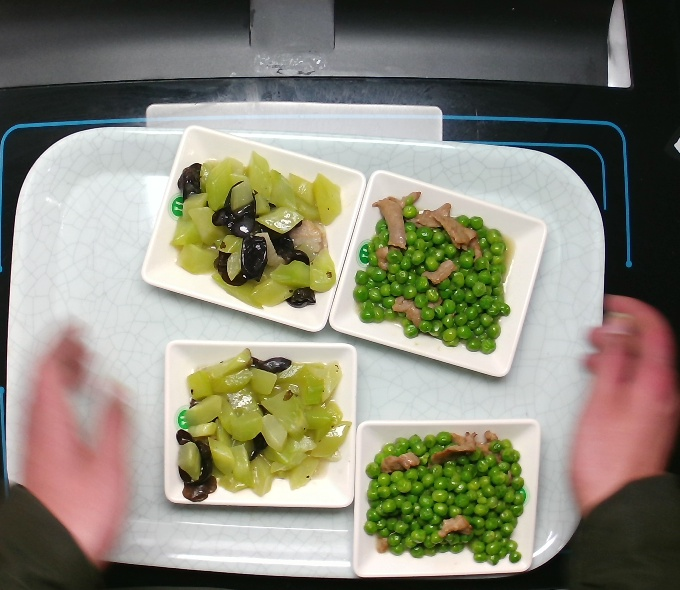wcq-CanDouRouSi: (348, 162, 523, 362), (360, 429, 540, 579)
wcq-WoSunKuai: (178, 345, 352, 520), (157, 146, 336, 315)
